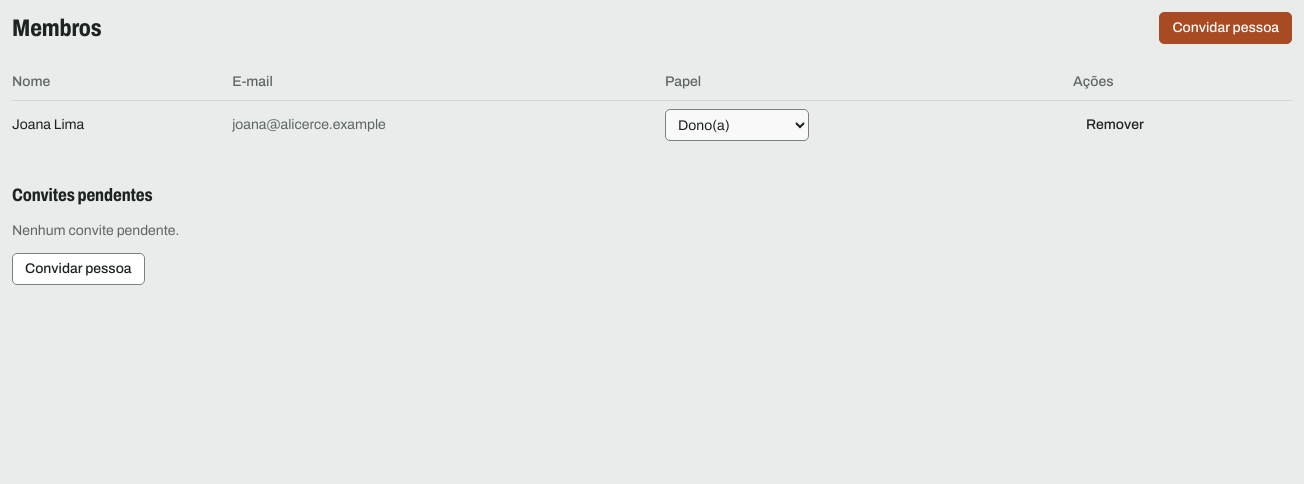
Test case: MembersScreen › shows a translated error when inviting an existing member
The width and height of the screenshot is (1304, 484).
Expected: the text "Joana Lima" is shown, 12,101 -> 232,149
Click the button "Convidar pessoa" in the row of "Membros" at (1226, 28), box 1160,12 -> 1292,44
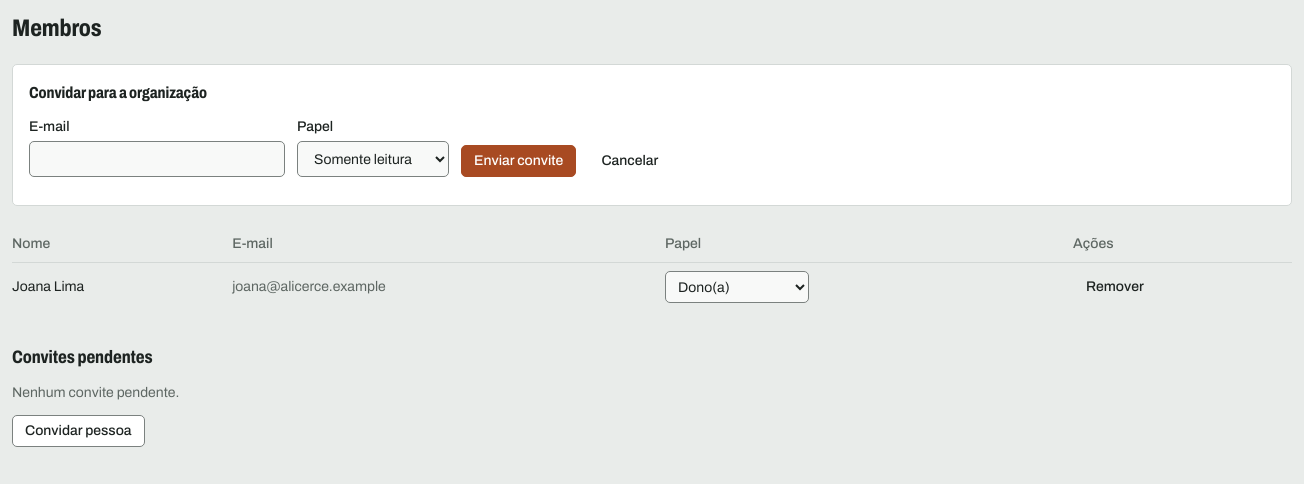
Type "joana@alicerce.example" into the field labelled "E-mail" at (157, 159), box 29,141 -> 285,177
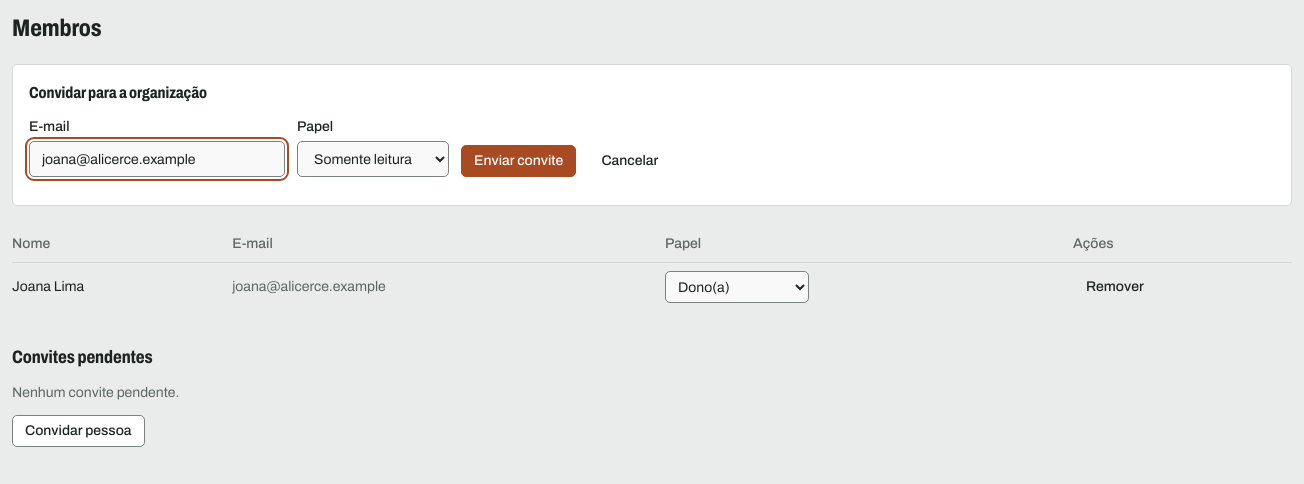
Click the button "Enviar convite" at (519, 161), box 461,145 -> 576,177
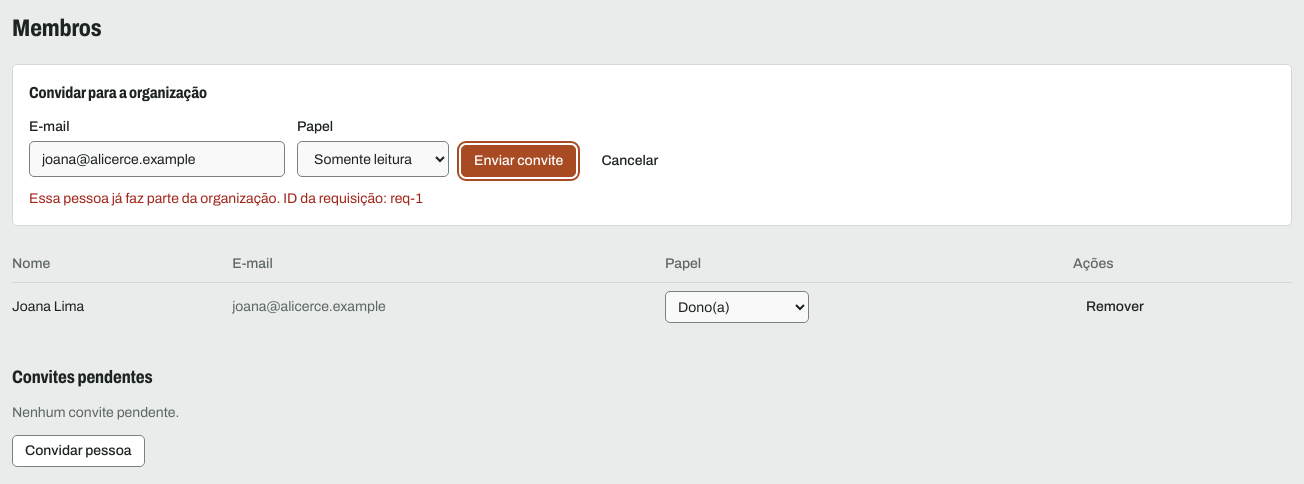
Expected: the message shows "Essa pessoa já faz parte da organização.", 29,191 -> 280,206
Expected: the message shows "ID da requisição: req-1", 280,191 -> 423,206
